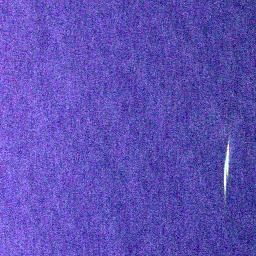Ship: (219, 140, 231, 196)
